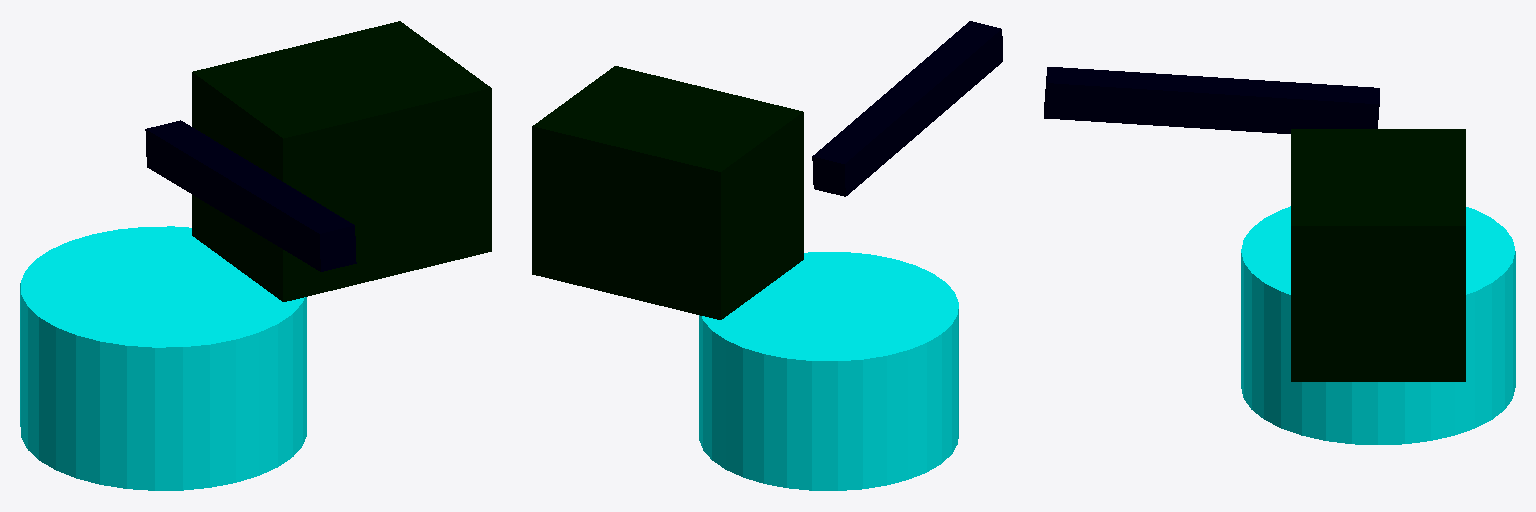
URDF robot description (g_arm):
<robot name="g_arm">
		
   

    <link name="base_link">
			<visual>
                <origin xyz="0 0 0.0385" rpy="0 0 0"/>
                <geometry>
                    <cylinder radius="0.07" length="0.077"/>
                </geometry>
                <material name="Cyan">
                    <color rgba="0.0 1.0 1.0 1.0"/>
                </material>
            </visual>
    </link>

    <link name="base_up_link">
		<visual>
            <origin xyz="0.1 0 0.044" rpy="0 0 0"/>
            <geometry>
               <box size="0.117 0.089 0.088"/>
            </geometry>
            <material name="Green">
                <color rgba="0.0 0.1 0.0 1.0"/>
            </material>
        </visual>
		
    </link>

    <link name="first_link">
		<visual>
            <origin xyz="0 0 0.085" rpy="0 0 0"/>
            <geometry>
               <box size="0.02 0.02 0.17"/>
            </geometry>
            <material name="Blue">
                <color rgba="0.0 0.0 0.1 1.0"/>
            </material>
        </visual>
		
    </link>

    

    <joint name="base_joint" type="revolute">
        <axis xyz="0.0 0.0 1"/>
        <origin xyz="0 0 0.077" rpy="0 0 0"/>
        <parent link="base_link"/>
        <child link="base_up_link"/>
        <limit effort="30" velocity="1.0" lower="-2.2" upper="0.7" />
        
        
    </joint>

    <joint name="firstlink_joint" type="revolute">
        <axis xyz="1 0.0 0.0"/>
        <origin xyz="0 0 0.077" rpy="1.5 0 0"/>
        <parent link="base_up_link"/>
        <child link="first_link"/>
        <limit effort="30" velocity="1.0" lower="-2.2" upper="0.7" />
        
        
    </joint>

</robot>

--- Facts derived from the render (not from the file) ---
Views: 3 orthographic renders of the robot side by side, from view 1: azimuth 30°, elevation 25°; view 2: azimuth 150°, elevation 25°; view 3: azimuth 270°, elevation 25°.
Robot: g_arm — 3 links, 2 joints (2 revolute); root link base_link; default pose: every joint at zero.
Links seen in each view (by area): view 1: base_link, base_up_link, first_link; view 2: base_up_link, base_link, first_link; view 3: base_up_link, base_link, first_link.
Boxes of the visible links, x1=… form: base_link: x1=20, y1=226, x2=306, y2=490; base_up_link: x1=192, y1=21, x2=491, y2=301; first_link: x1=145, y1=120, x2=356, y2=271; base_up_link: x1=532, y1=66, x2=803, y2=319; base_link: x1=699, y1=252, x2=958, y2=490; first_link: x1=812, y1=21, x2=1002, y2=196; base_up_link: x1=1291, y1=129, x2=1465, y2=381; base_link: x1=1241, y1=206, x2=1515, y2=444; first_link: x1=1044, y1=67, x2=1379, y2=133.
Bounding box of the posed robot: 0.2285 × 0.2403 × 0.176 m (x, y, z).
Geometry: primitives only (box / cylinder / sphere), no mesh files.
